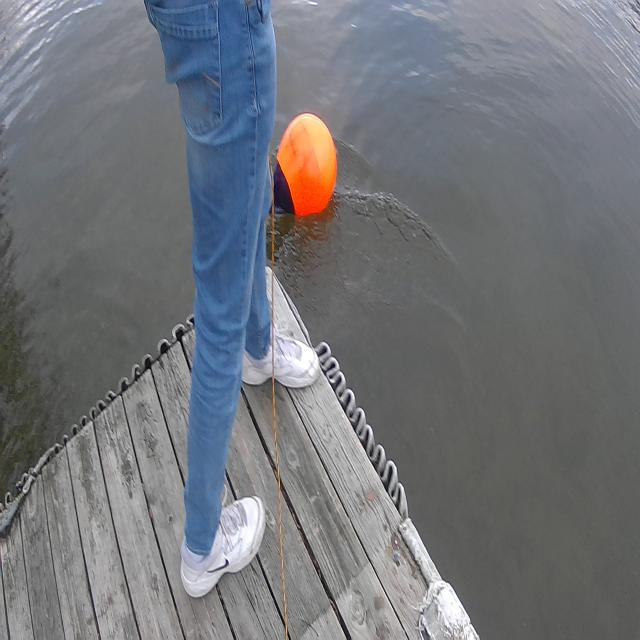Buoy: (275, 110, 338, 219)
